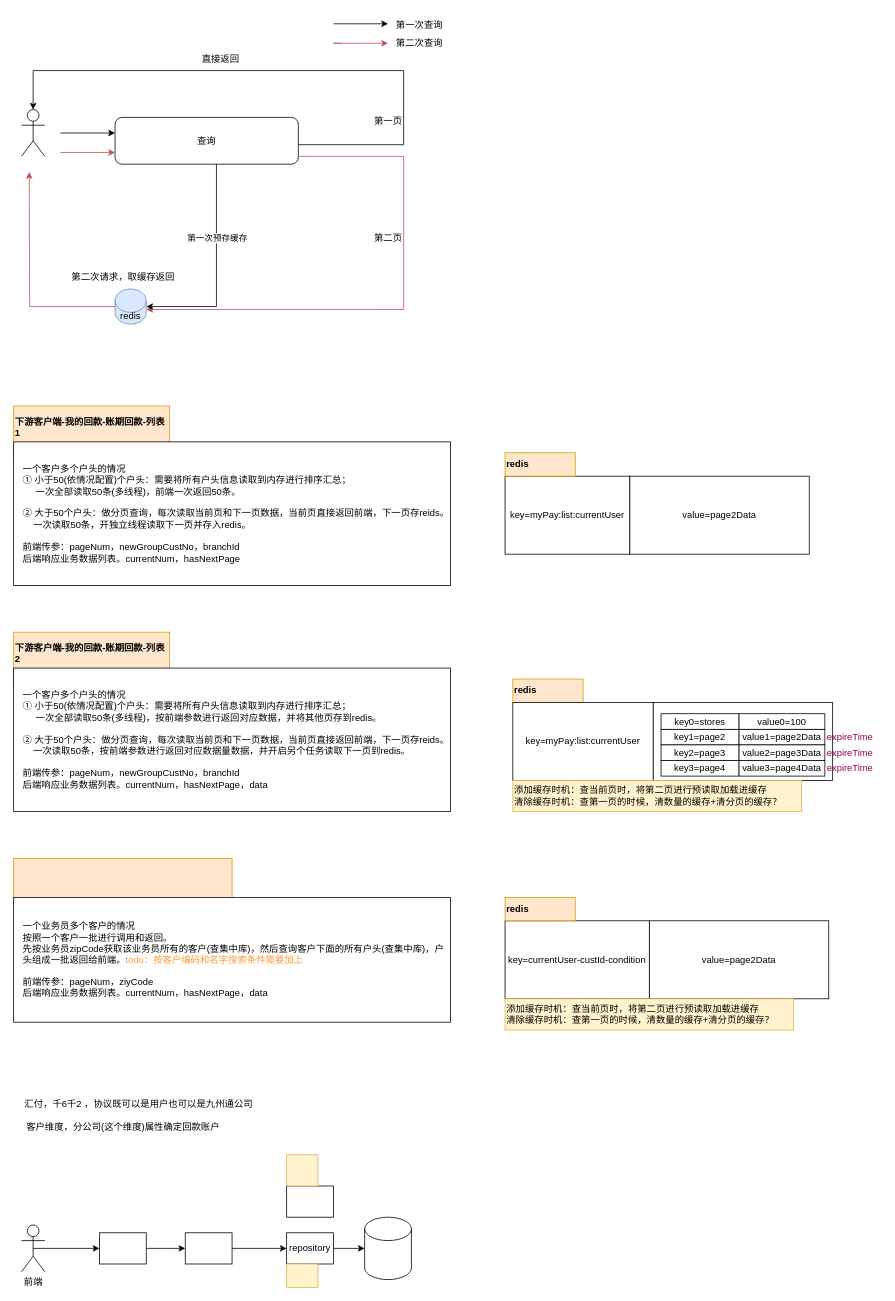
Some shapes in this 895 by 1301 pixel diagram are drawn without their labels. Here are the shapes that lost their labels. From the top down, the centre of each, then its label:
pixel 33 132: Actor
pixel 122 881: 业务员端-我的业绩-应收金额统计/逾期情况统计
pixel 302 1170: mybatis
pixel 309 1201: mapper
pixel 122 1248: controller
pixel 208 1248: service
pixel 387 1248: mysql
pixel 302 1275: JPA
